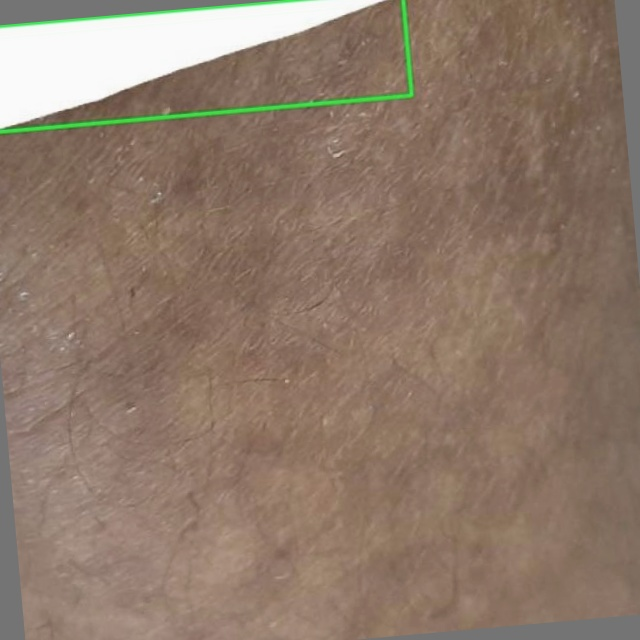Contact Dermatitis: (0, 0, 411, 131)
